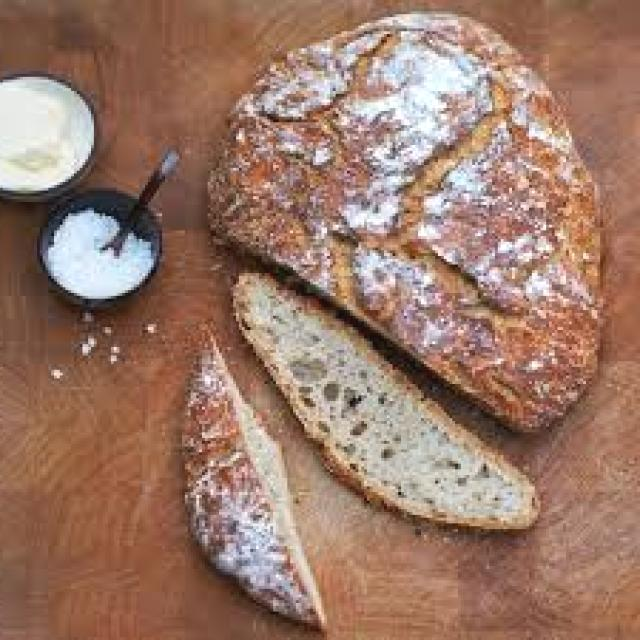organic: (219, 11, 592, 339)
